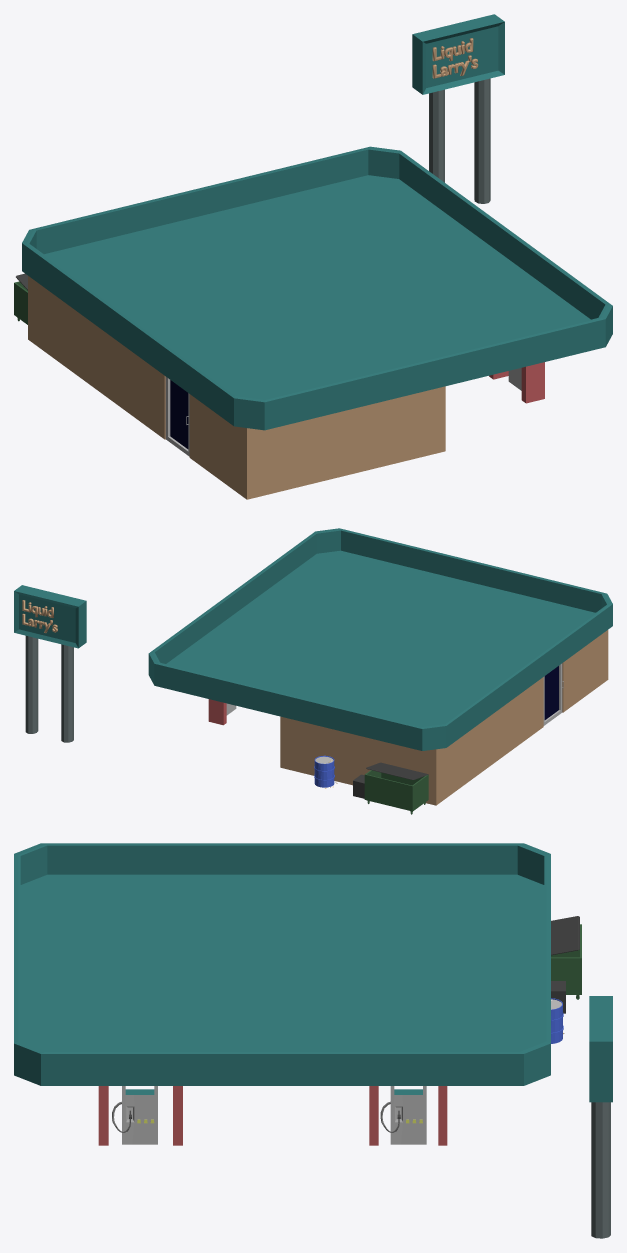
The model's file is GasStation.fbx.
3 views of the same model, one above another, from view 1: azimuth 30°, elevation 25°; view 2: azimuth 150°, elevation 25°; view 3: azimuth 270°, elevation 25° (orthographic). The views are drawn at different scales.
Visible parts, largest first — view 1: Roof, Walls, Sign, Back Door, Support; view 2: Roof, Walls, Sign, Dumpster, Back Door, Steel Drum, Support; view 3: Roof, Sign, Support, Gas Pump, Dumpster, Gas Pump.001, Steel Drum.
Part boxes in pixels (left/top/right/bottom): Roof: left=22, top=146, right=612, bottom=430; Walls: left=28, top=276, right=445, bottom=499; Sign: left=412, top=14, right=504, bottom=203; Back Door: left=165, top=377, right=189, bottom=456; Support: left=489, top=362, right=544, bottom=403; Roof: left=148, top=528, right=612, bottom=750; Walls: left=280, top=630, right=608, bottom=805; Sign: left=14, top=585, right=86, bottom=742; Dumpster: left=364, top=762, right=428, bottom=814; Back Door: left=543, top=663, right=563, bottom=725; Steel Drum: left=314, top=755, right=334, bottom=787; Support: left=208, top=699, right=226, bottom=725; Roof: left=14, top=843, right=550, bottom=1085; Sign: left=589, top=996, right=612, bottom=1238; Support: left=98, top=1086, right=447, bottom=1145; Gas Pump: left=380, top=1086, right=426, bottom=1144; Dumpster: left=551, top=916, right=581, bottom=999; Gas Pump.001: left=112, top=1086, right=157, bottom=1144; Steel Drum: left=551, top=998, right=563, bottom=1043.
Bounding box in the file's own units: 3018 × 1004 × 2686.
